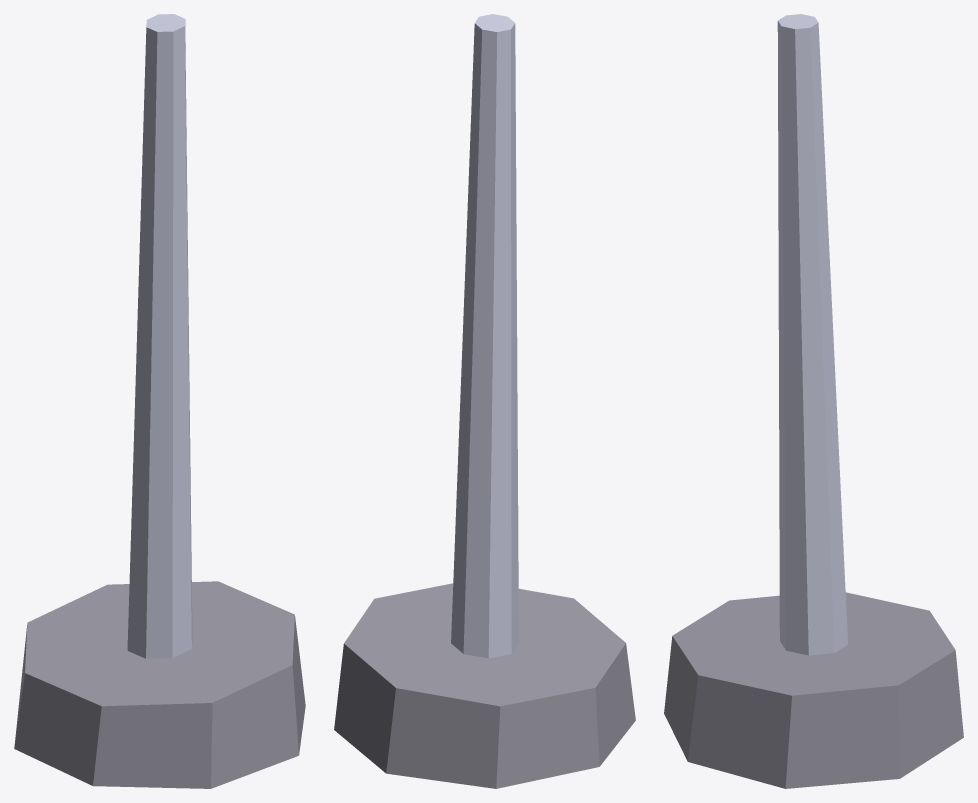
Rendered from flag_post.fbx.
The picture shows the model from 3 angles, left to right: view 1: azimuth 30°, elevation 25°; view 2: azimuth 150°, elevation 25°; view 3: azimuth 270°, elevation 25°; orthographic projection.
Visible parts, largest first — view 1: flag.001; view 2: flag.001; view 3: flag.001.
Boxes of the visible parts, x1,y1,x2,y2 form: flag.001: (14,14,305,788); flag.001: (334,14,635,788); flag.001: (664,14,963,788).
Size of the model in its own units: 43.27 by 112 by 43.27.
